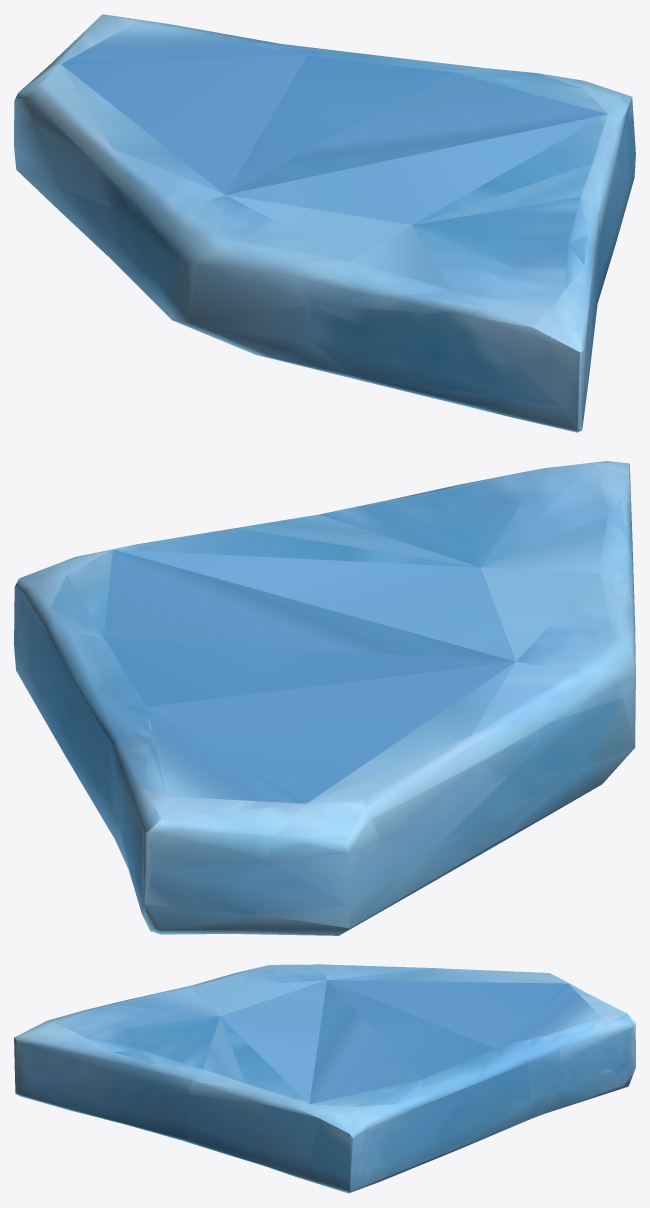
The model's file is placa_hielo_rota_0_300.glb.
3 views of the same model, one above another, from view 1: azimuth 30°, elevation 25°; view 2: azimuth 150°, elevation 25°; view 3: azimuth 270°, elevation 25° (orthographic). The views are drawn at different scales.
Visible parts, largest first — view 1: placa_hielo_rota_0_malla; view 2: placa_hielo_rota_0_malla; view 3: placa_hielo_rota_0_malla.
Boxes of the visible parts, x1,y1,x2,y2 form: placa_hielo_rota_0_malla: (14, 14, 635, 432); placa_hielo_rota_0_malla: (14, 461, 635, 935); placa_hielo_rota_0_malla: (14, 964, 635, 1193).
Bounding box in the file's own units: 0.1318 × 0.0277 × 0.2072.
Materials: 1 (1 with a texture image).
